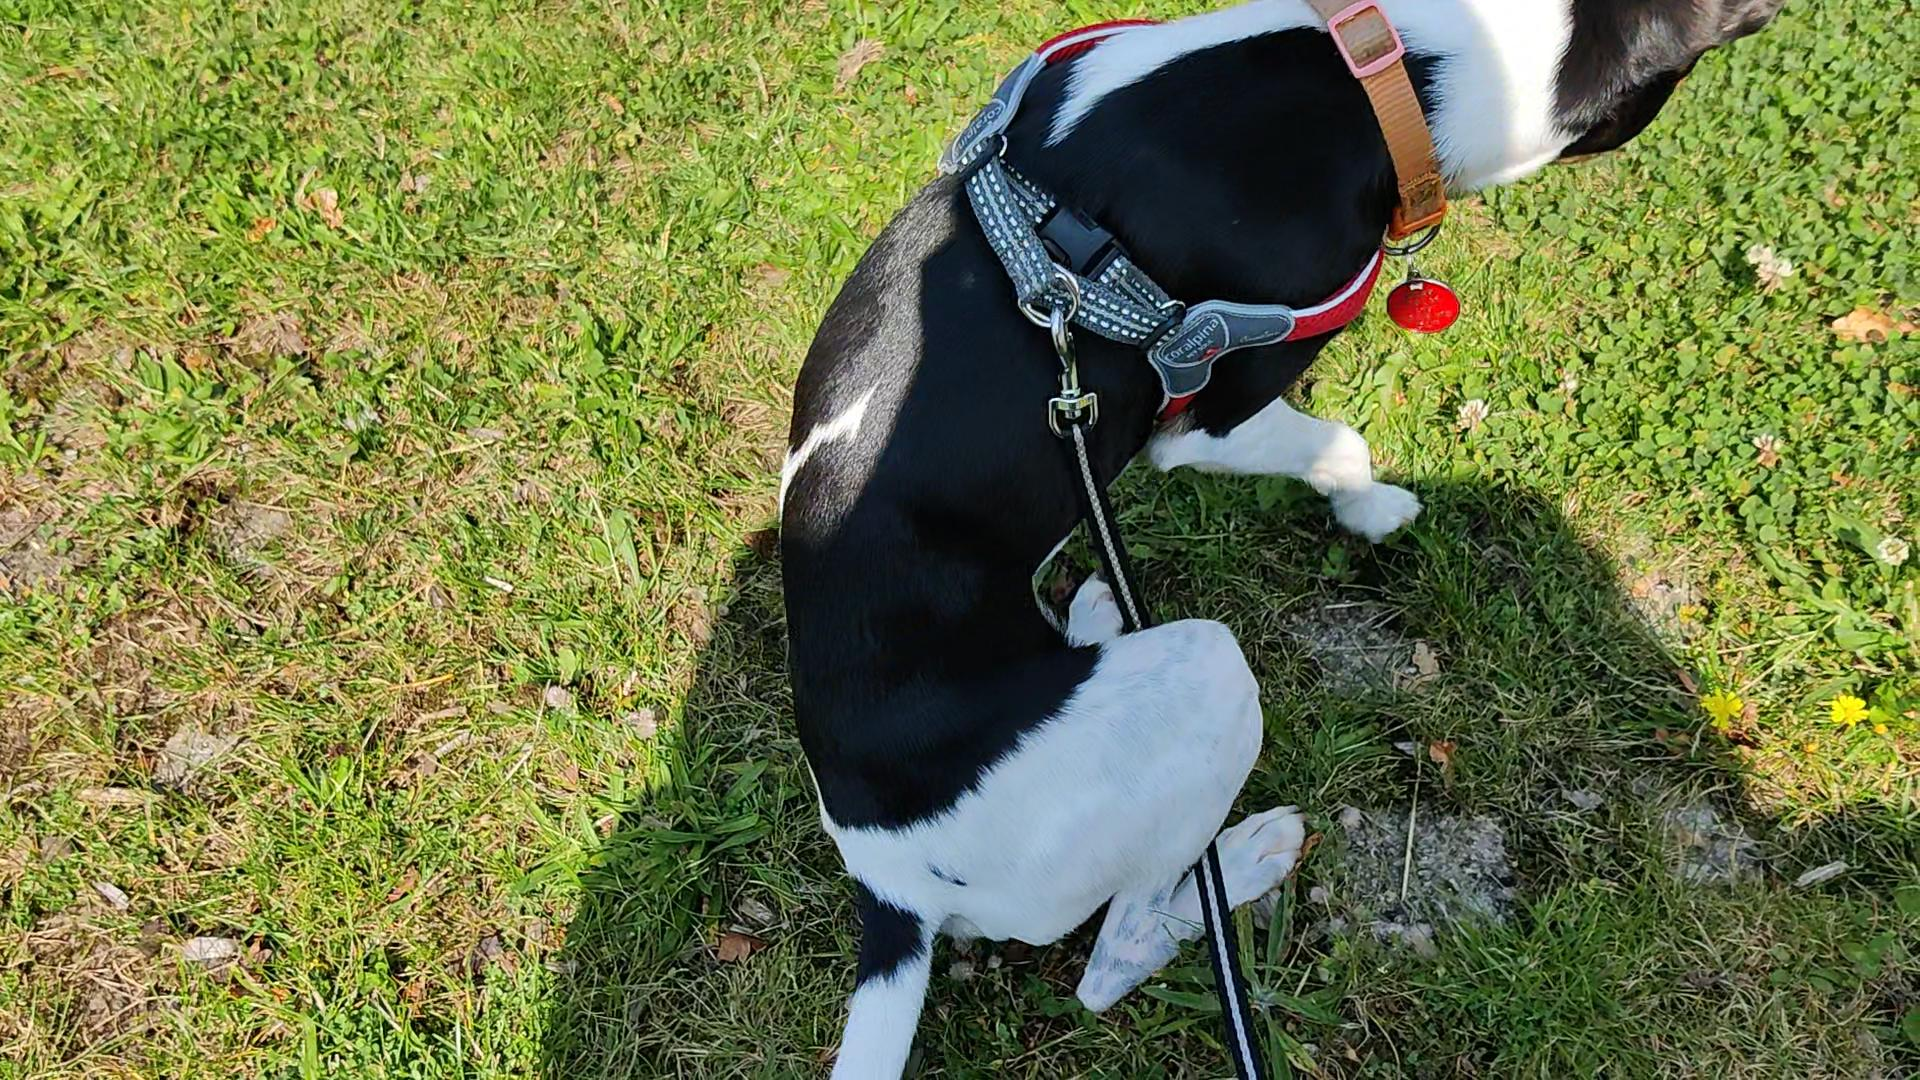Dog: (764, 0, 1792, 1079)
